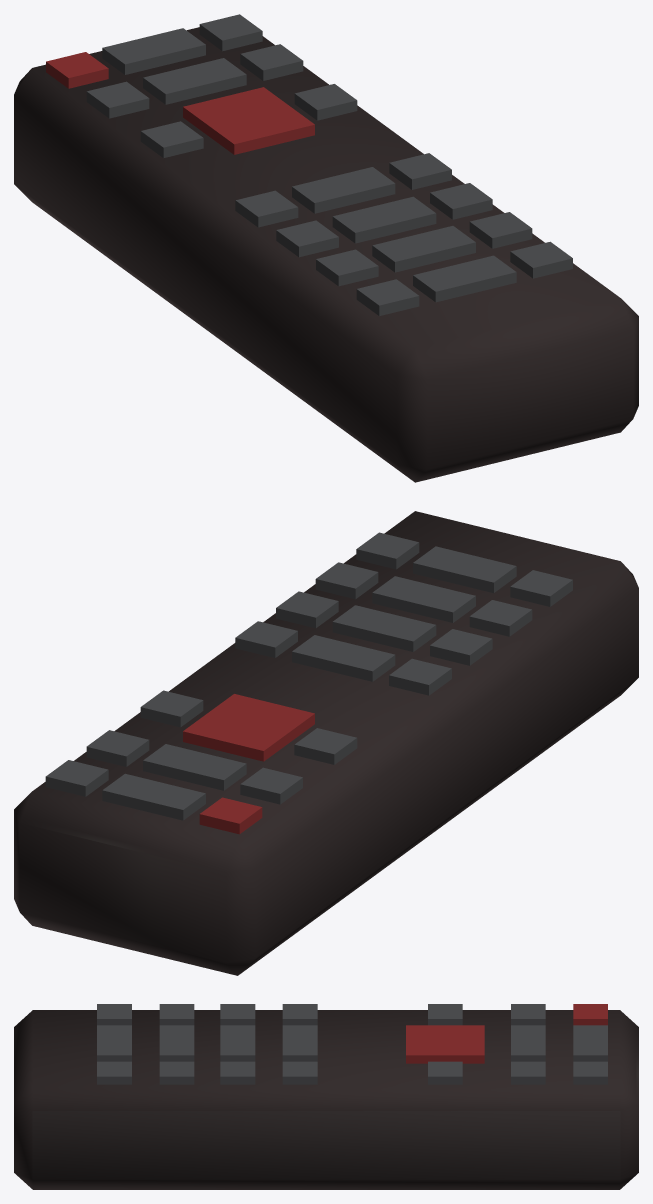
The model's file is 32_prop_remote control.FBX.
The picture shows the model from 3 angles, top to bottom: view 1: azimuth 30°, elevation 25°; view 2: azimuth 150°, elevation 25°; view 3: azimuth 270°, elevation 25°; orthographic projection. The views are drawn at different scales.
Parts seen in each view (by area): view 1: prop_remote control; view 2: prop_remote control; view 3: prop_remote control.
Boxes of the visible parts, x1,y1,x2,y2 form: prop_remote control: (14,14,638,482); prop_remote control: (14,511,638,975); prop_remote control: (14,1004,638,1189).
Size of the model in its own units: 5.39 by 3.09 by 15.74.
